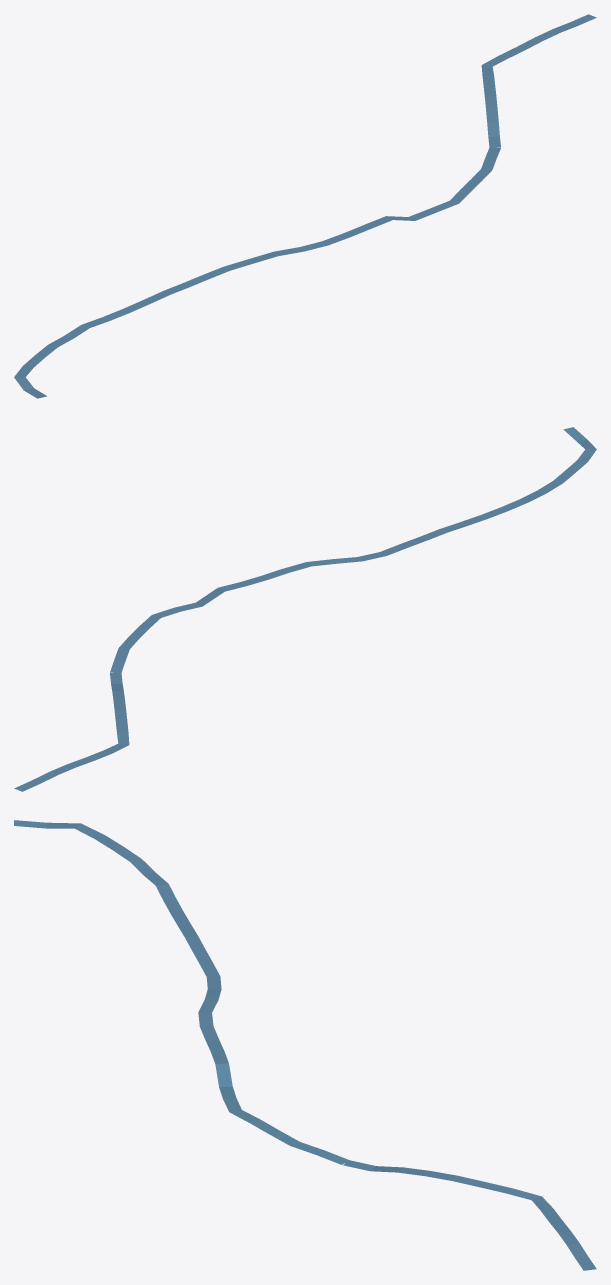
Rendered from c_1634_17835_water.glb.
The picture shows the model from 3 angles, top to bottom: view 1: azimuth 30°, elevation 25°; view 2: azimuth 210°, elevation 25°; view 3: azimuth 270°, elevation 25°; orthographic projection. The views are drawn at different scales.
Parts seen in each view (by area): view 1: geometry_0; view 2: geometry_0; view 3: geometry_0.
Part boxes in pixels (<box>): geometry_0: <box>14,14,596,398</box>; geometry_0: <box>14,427,596,791</box>; geometry_0: <box>14,820,596,1270</box>.
Bounding box in the file's own units: 198 × 3.05 × 105.
